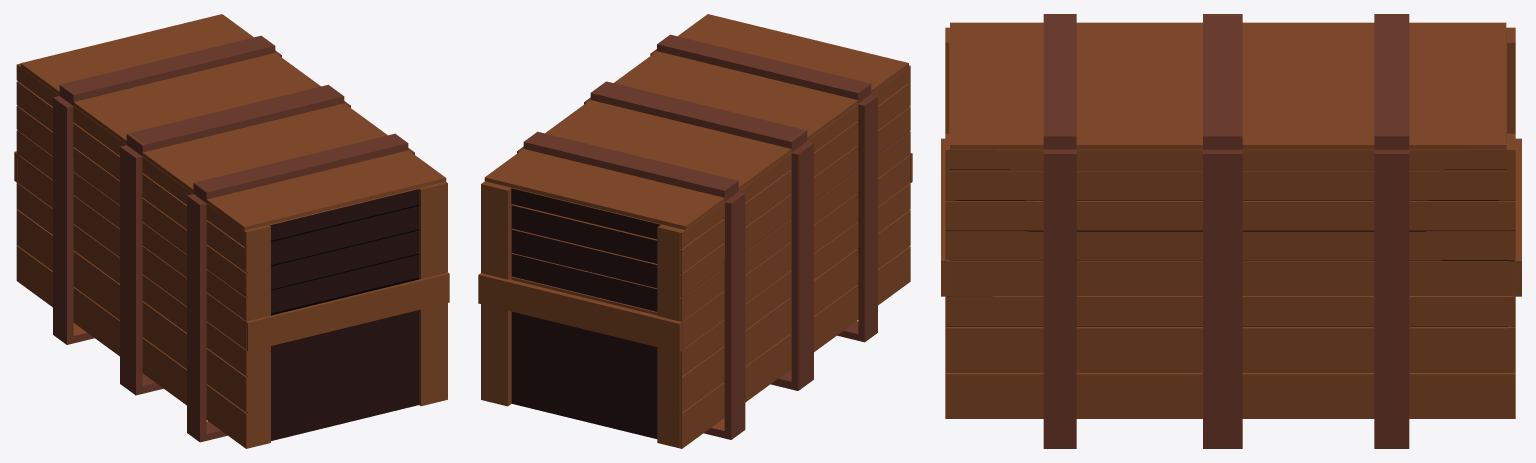
3 renders of one model, left to right at view 1: azimuth 30°, elevation 25°; view 2: azimuth 150°, elevation 25°; view 3: azimuth 270°, elevation 25°, orthographic. The views are drawn at different scales.
Parts seen in each view (by area): view 1: Cube; view 2: Cube; view 3: Cube.
Part boxes in pixels (x1=…): Cube: x1=14, y1=14, x2=449, y2=448; Cube: x1=478, y1=14, x2=912, y2=448; Cube: x1=941, y1=14, x2=1521, y2=448.
Size of the model in its own units: 213 by 235 by 401.
